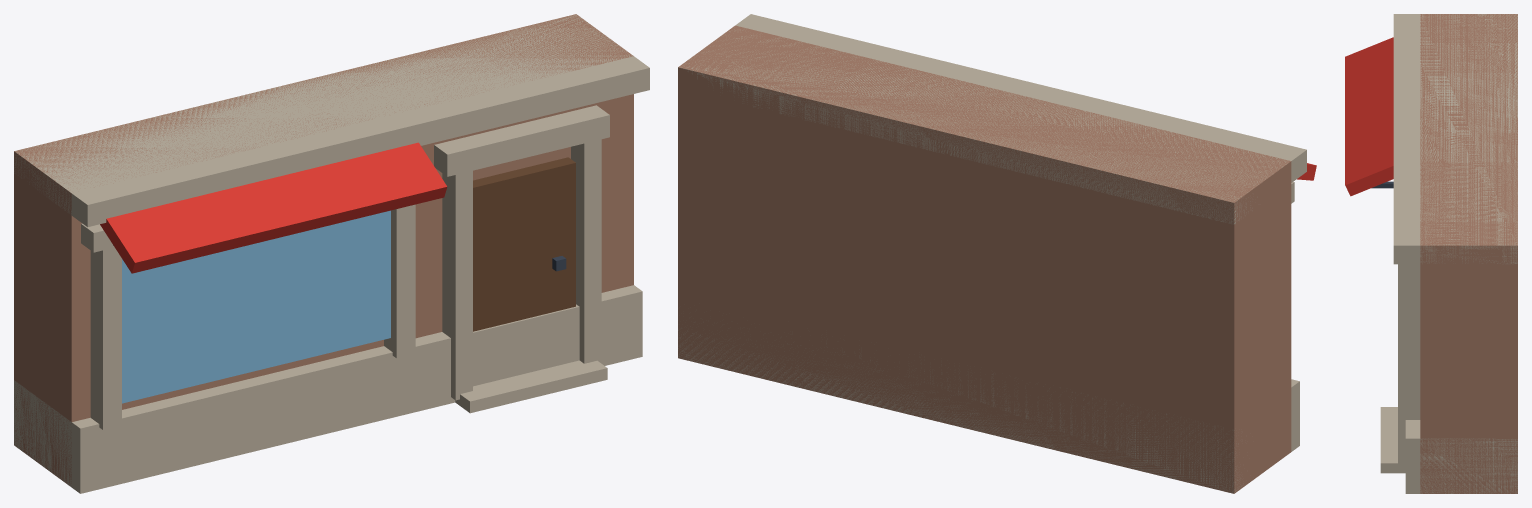
Rendered from cittaMattoneBaseA.glb.
The picture shows the model from 3 angles, left to right: view 1: azimuth 30°, elevation 25°; view 2: azimuth 150°, elevation 25°; view 3: azimuth 270°, elevation 25°; orthographic projection. The views are drawn at different scales.
Visible parts, largest first — view 1: cittaMattoneBaseA_stone, cittaMattoneBaseA_cittaMattone, cittaMattoneBaseA_glass, cittaMattoneBaseA_red, cittaMattoneBaseA_bark; view 2: cittaMattoneBaseA_cittaMattone, cittaMattoneBaseA_stone; view 3: cittaMattoneBaseA_cittaMattone, cittaMattoneBaseA_stone, cittaMattoneBaseA_red.
Part boxes in pixels (x1,y1,x2,y2): cittaMattoneBaseA_stone: (14, 14, 649, 493); cittaMattoneBaseA_cittaMattone: (14, 14, 633, 485); cittaMattoneBaseA_glass: (122, 210, 390, 403); cittaMattoneBaseA_red: (100, 142, 447, 273); cittaMattoneBaseA_bark: (473, 157, 575, 331); cittaMattoneBaseA_cittaMattone: (678, 25, 1291, 493); cittaMattoneBaseA_stone: (678, 14, 1306, 492); cittaMattoneBaseA_cittaMattone: (1420, 14, 1517, 493); cittaMattoneBaseA_stone: (1380, 14, 1517, 493); cittaMattoneBaseA_red: (1345, 37, 1393, 196).
Bounding box in the file's own units: 9 × 4.5 × 2.84.
